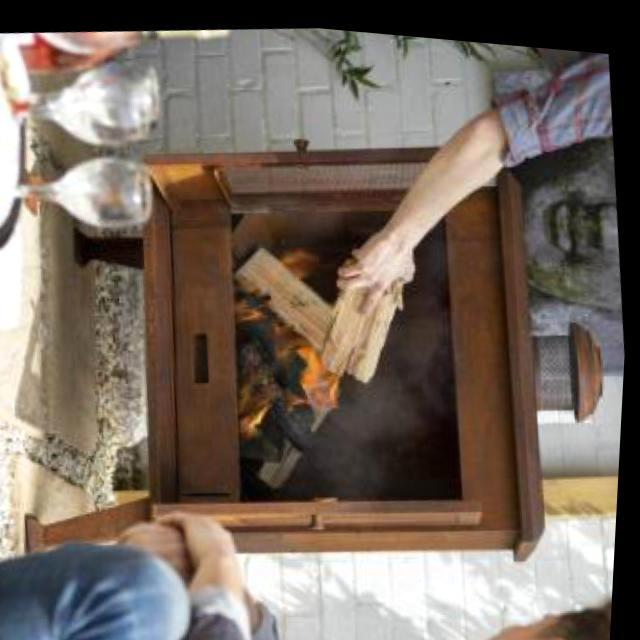fire: (220, 250, 356, 444)
